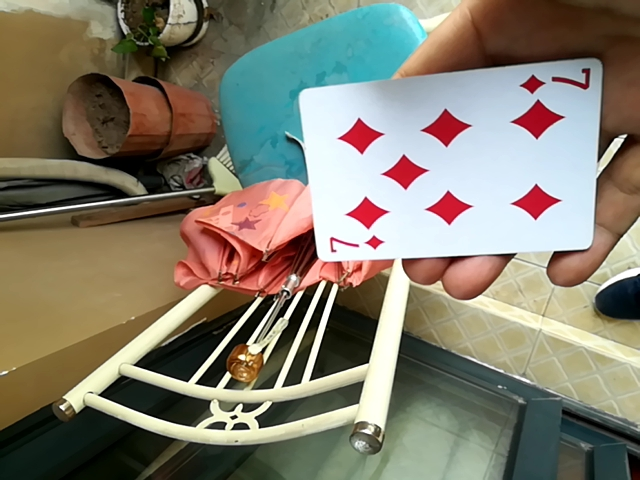fk 7: (295, 58, 607, 259)
